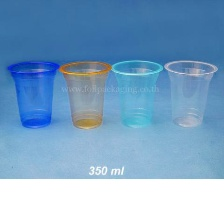glass: (107, 56, 166, 130), (160, 56, 219, 130), (56, 58, 113, 134), (5, 59, 63, 131)
